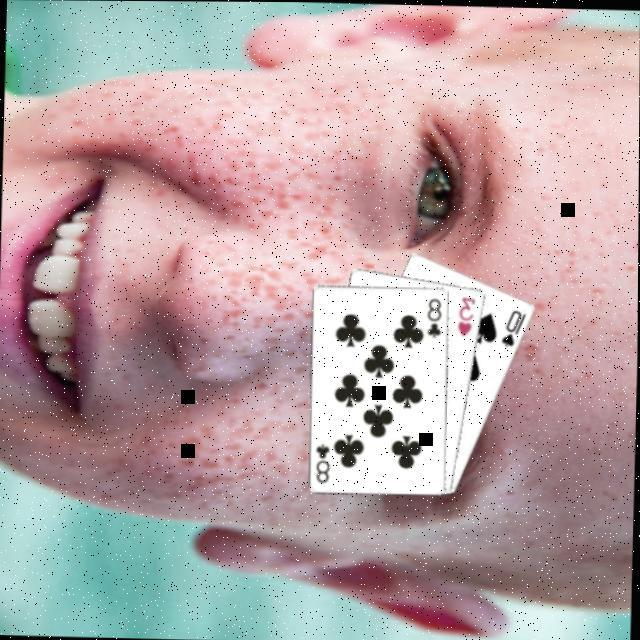10S: (499, 307, 530, 351)
3H: (456, 294, 478, 339)
8C: (424, 296, 446, 341), (314, 442, 334, 486)
